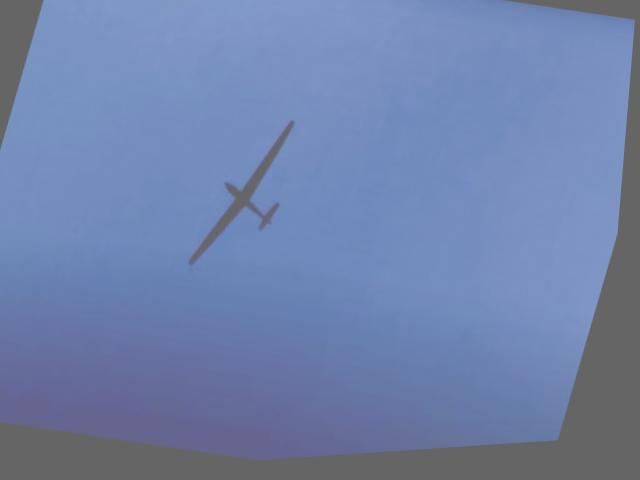iha: (191, 109, 311, 283)
